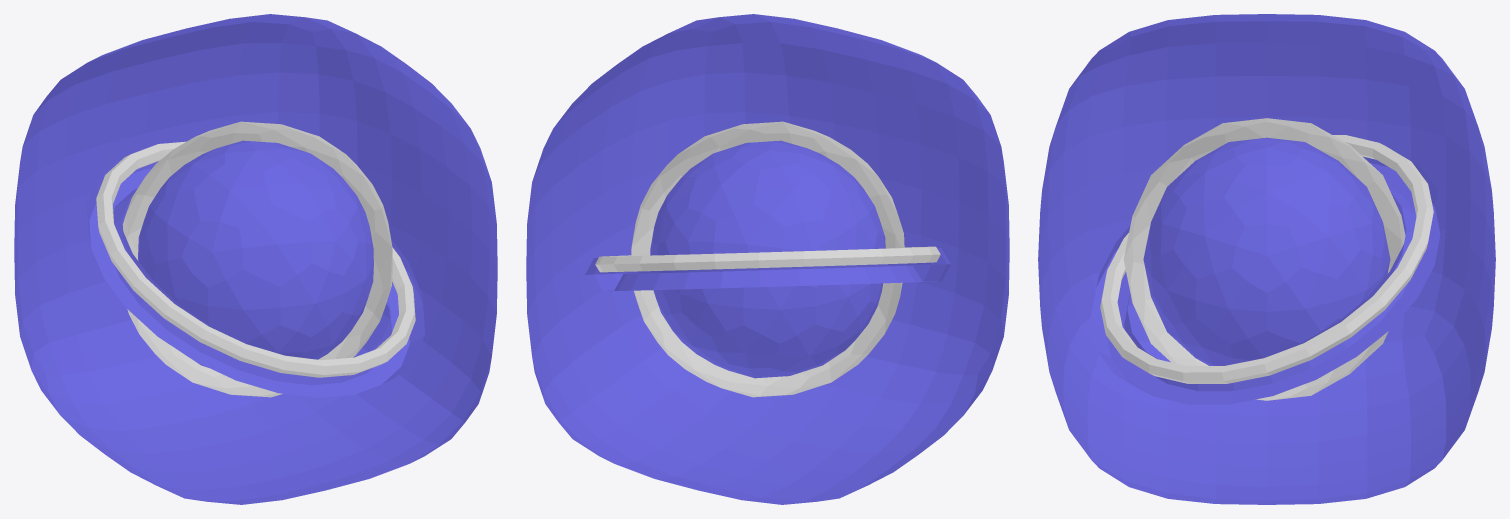
3 renders of one model, left to right at view 1: azimuth 30°, elevation 25°; view 2: azimuth 150°, elevation 25°; view 3: azimuth 270°, elevation 25°, orthographic. The views are drawn at different scales.
Parts seen in each view (by area): view 1: Purple_Icosphere, TorusWhole_Torus; view 2: Purple_Icosphere, TorusWhole_Torus; view 3: Purple_Icosphere, TorusWhole_Torus.
Part boxes in pixels (<box>): Purple_Icosphere: <box>14,14,497,504</box>; TorusWhole_Torus: <box>96,121,415,397</box>; Purple_Icosphere: <box>526,14,1009,504</box>; TorusWhole_Torus: <box>595,121,940,397</box>; Purple_Icosphere: <box>1038,14,1495,504</box>; TorusWhole_Torus: <box>1100,118,1433,400</box>.
Size of the model in its own units: 1.98 by 1.98 by 1.98.
